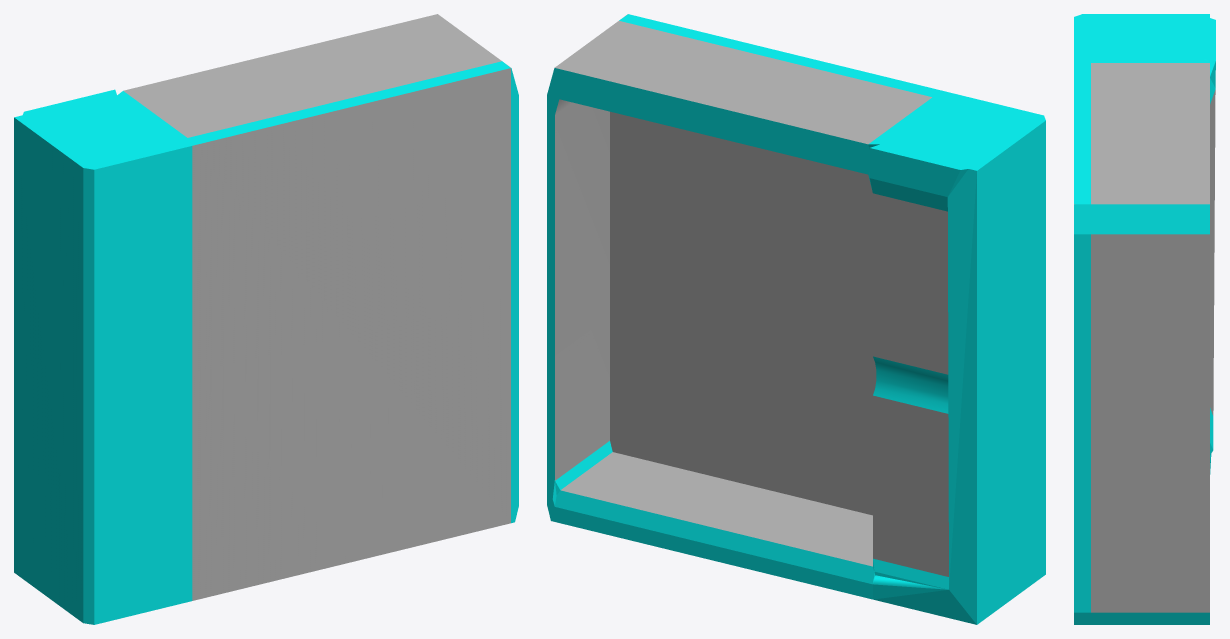
File: bookcaseClosedWide.glb
3 renders of one model, left to right at view 1: azimuth 30°, elevation 25°; view 2: azimuth 150°, elevation 25°; view 3: azimuth 270°, elevation 25°, orthographic. The views are drawn at different scales.
Parts seen in each view (by area): view 1: bookcaseClosedWide; view 2: bookcaseClosedWide; view 3: bookcaseClosedWide.
Boxes of the visible parts, x1,y1,x2,y2 form: bookcaseClosedWide: (14,14,518,624); bookcaseClosedWide: (547,14,1045,624); bookcaseClosedWide: (1074,14,1215,624).
Bounding box in the file's own units: 1.39 × 1.4 × 0.43.
